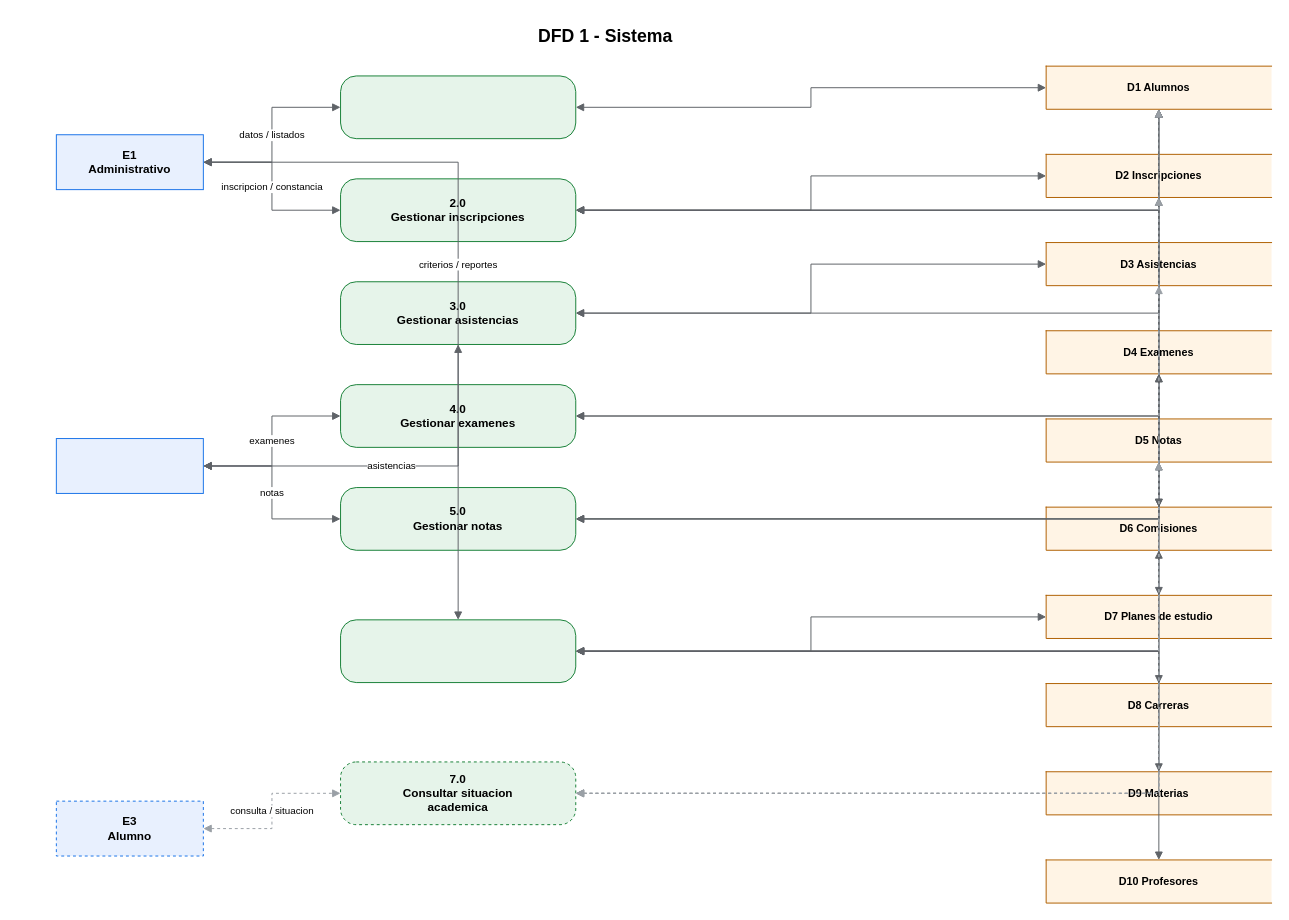
This 1289x920 diagram has some shape labels left out. The centre of each missing label's shape, as x and y in pixels:
"1.0 Gestionar alumnos" belongs at (x=458, y=107).
"6.0 Generar consultas" belongs at (x=458, y=651).
"E2 Docente" belongs at (x=129, y=465).
